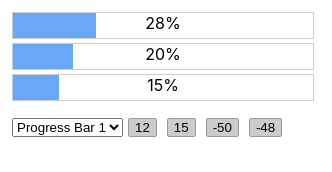
Test case: Select set 2nd progress bor and apply button click event
Select "Progress Bar 2" in the dropdown at (68, 128), box [12,118,123,137]
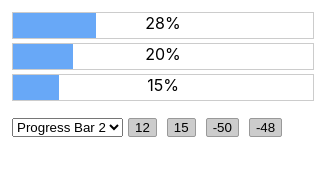
Click the button "12" at (142, 128), box [128,118,157,137]
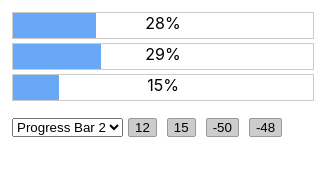
expect the text "20%" reads "29%": met, box [145,44,181,64]
